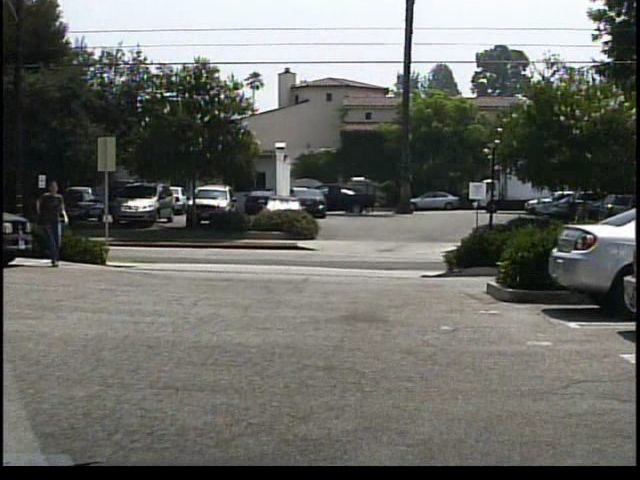person: (36, 181, 74, 270)
